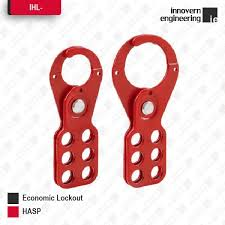hasp: (111, 34, 180, 188), (50, 45, 103, 187)
